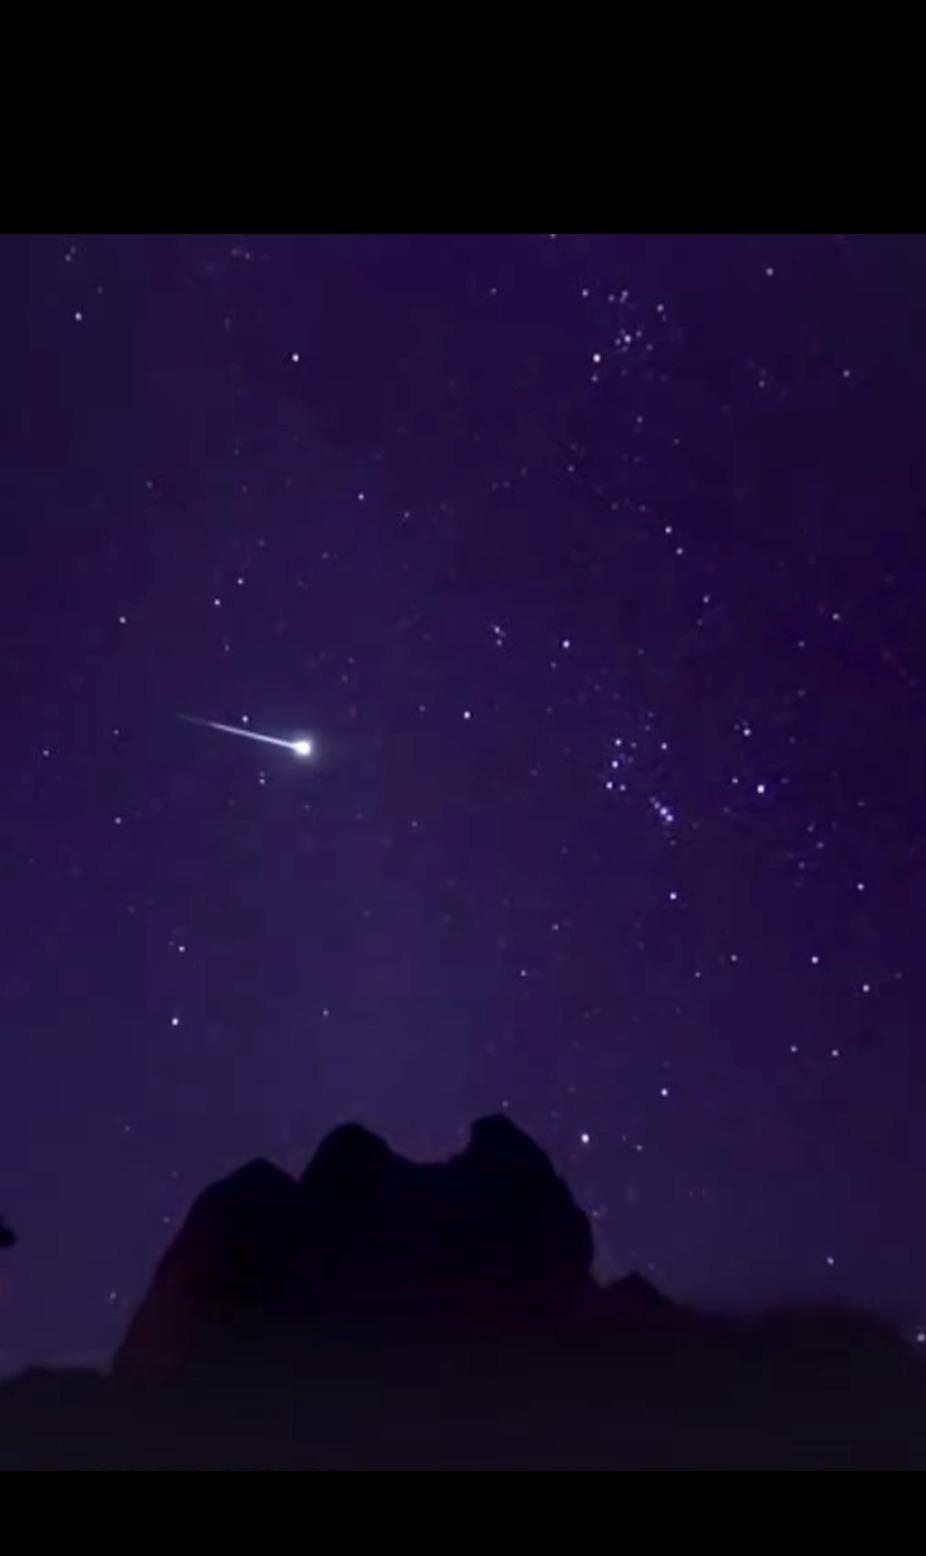meteorite: (174, 704, 344, 771)
